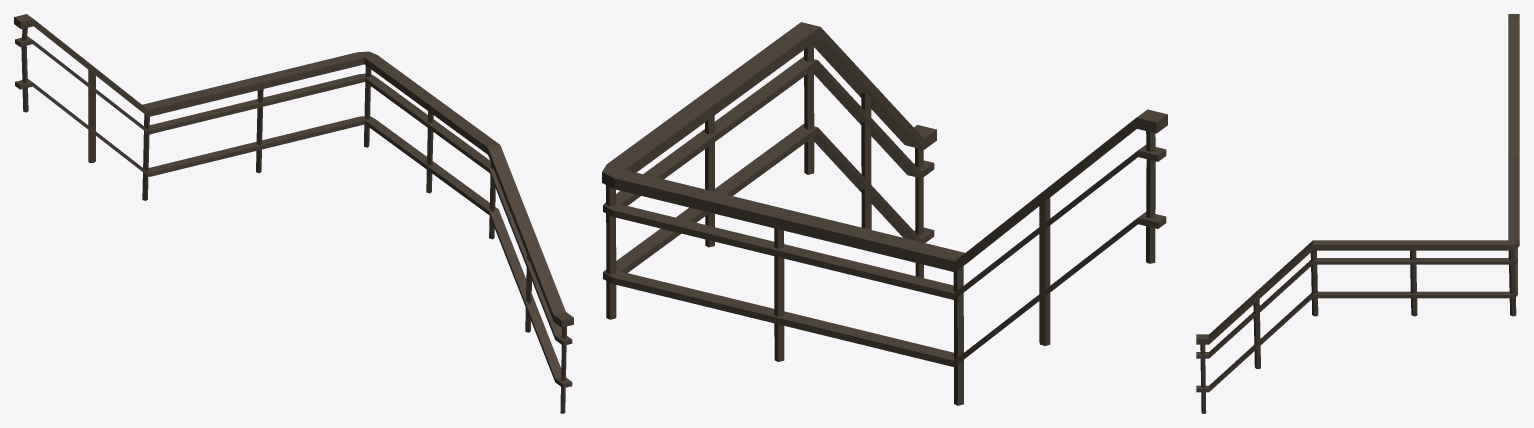
Rendered from SM_Bld_House_Stairs_02_Railing_02.fbx.
The picture shows the model from 3 angles, left to right: view 1: azimuth 30°, elevation 25°; view 2: azimuth 150°, elevation 25°; view 3: azimuth 270°, elevation 25°; orthographic projection. The views are drawn at different scales.
Parts seen in each view (by area): view 1: SM_Bld_House_Stairs_02_Railing_02; view 2: SM_Bld_House_Stairs_02_Railing_02; view 3: SM_Bld_House_Stairs_02_Railing_02.
Boxes of the visible parts, x1,y1,x2,y2 form: SM_Bld_House_Stairs_02_Railing_02: (14,14,573,413); SM_Bld_House_Stairs_02_Railing_02: (602,22,1167,405); SM_Bld_House_Stairs_02_Railing_02: (1196,14,1519,413).
Bounding box in the file's own units: 391 × 352 × 390.
